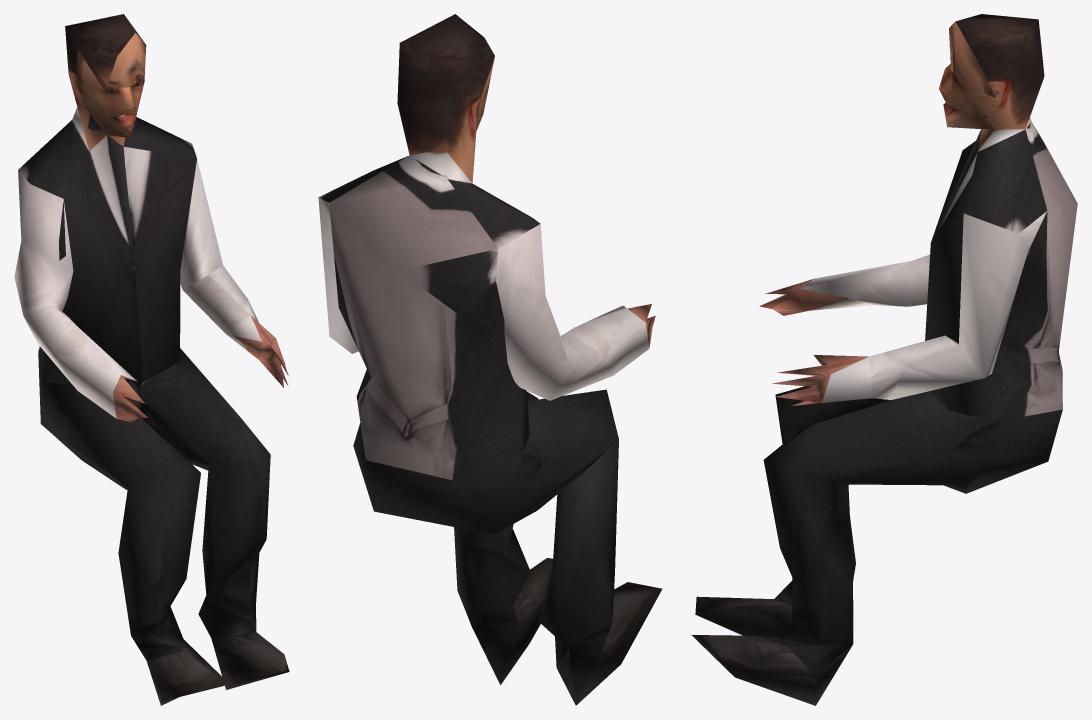
Rendered from EricFar.fbx.
The picture shows the model from 3 angles, left to right: view 1: azimuth 30°, elevation 25°; view 2: azimuth 150°, elevation 25°; view 3: azimuth 270°, elevation 25°; orthographic projection. The views are drawn at different scales.
Visible parts, largest first — view 1: rp_eric_rigged_001_geo.001; view 2: rp_eric_rigged_001_geo.001; view 3: rp_eric_rigged_001_geo.001.
Boxes of the visible parts, left/top/right/bottom form: rp_eric_rigged_001_geo.001: left=14, top=14, right=289, bottom=705; rp_eric_rigged_001_geo.001: left=318, top=14, right=662, bottom=705; rp_eric_rigged_001_geo.001: left=691, top=14, right=1077, bottom=705.
Size of the model in its own units: 49.52 by 148 by 77.46.
1 material, 1 textured.
